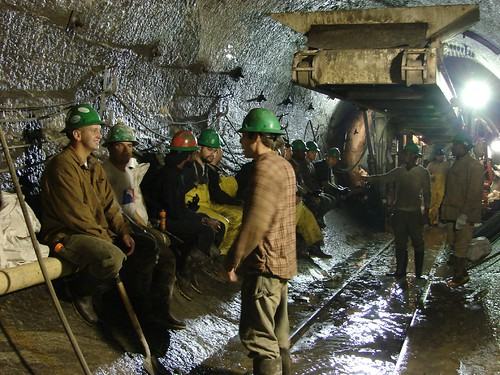person hardhat: (231, 105, 306, 375), (43, 101, 136, 314), (104, 112, 180, 325), (361, 140, 433, 270), (151, 119, 209, 280), (446, 133, 488, 305), (195, 122, 237, 271), (289, 137, 322, 263), (305, 139, 331, 225), (424, 147, 453, 221), (322, 138, 347, 201)
